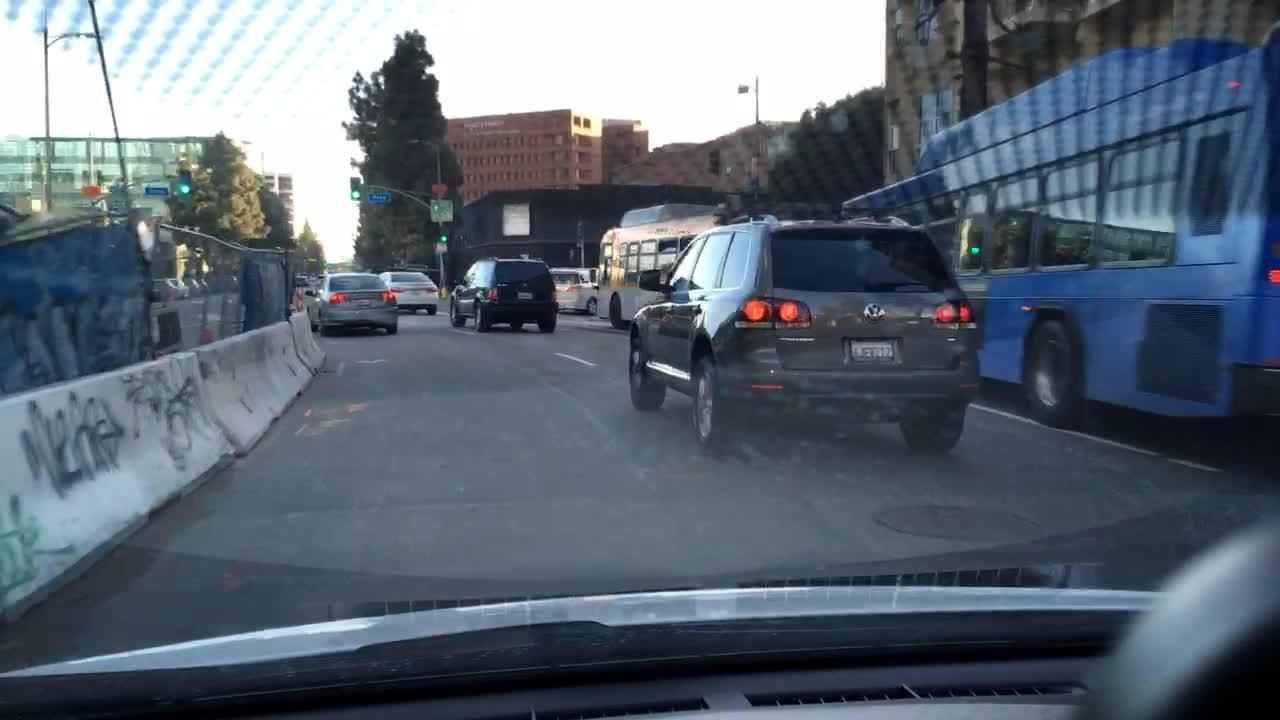Volkswagen: (866, 304, 884, 321)
